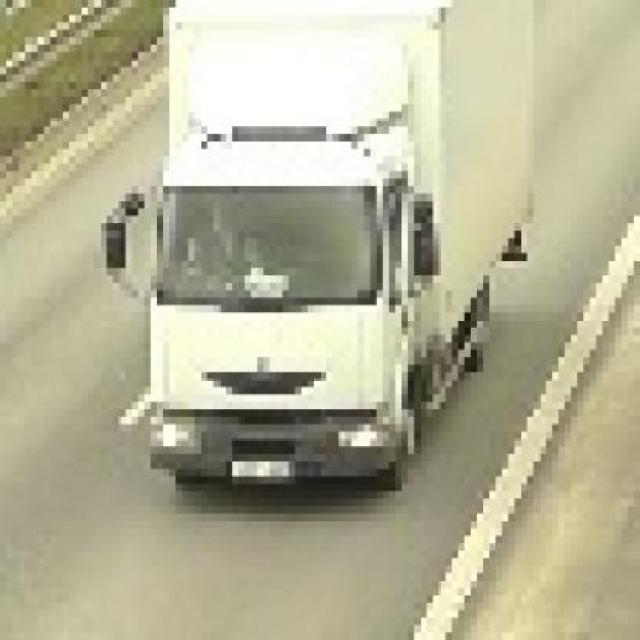truck: (101, 1, 529, 507)
